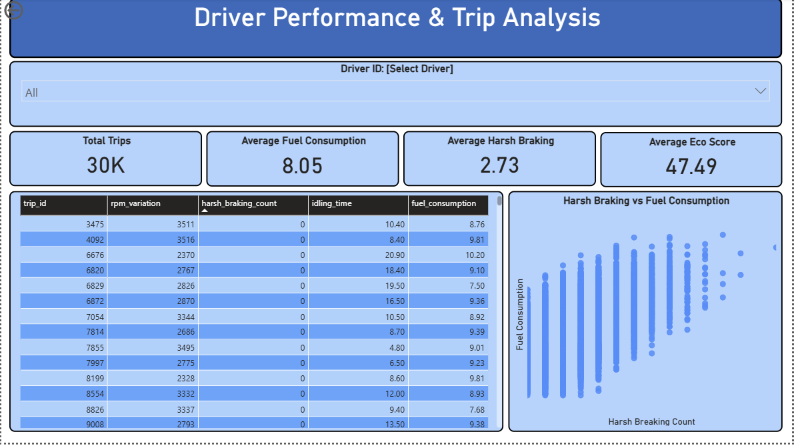

The page's visual inventory and layout, read from the dashboard file:
{"tool":"powerbi","page":{"name":"Driver Performance","canvas":[1280,720],"ordinal":1},"visuals":[{"type":"actionButton","box":[0,0,100,40],"z":0},{"type":"textbox","title":"Driver Performance & Trip Analysis","box":[13,0,1251.7,97.2],"z":1000},{"type":"actionButton","box":[0,0,100,40],"z":2000},{"type":"textbox","box":[13,570,413,150],"z":3000},{"type":"slicer","title":" Driver ID: [Select Driver] ","fields":{"Values":["public stg_eco_driving.driver_id"]},"box":[13,102,1251.7,106.9],"z":4000},{"type":"card","title":"Average Eco Score","fields":{"Values":["Avg(public stg_eco_driving.eco_score)"]},"box":[969.9,217,294.7,89.1],"z":5000},{"type":"card","title":"Average Fuel Consumption","fields":{"Values":["Avg(public stg_eco_driving.fuel_consumption)"]},"box":[332,216,312,90],"z":6000},{"type":"card","title":"Average Harsh Braking","fields":{"Values":["Avg(public stg_eco_driving.harsh_braking_count)"]},"box":[651,216,312,89],"z":7000},{"type":"card","title":"Total Trips","fields":{"Values":["CountNonNull(public stg_eco_driving.trip_id)"]},"box":[13,215,312,89],"z":8000},{"type":"tableEx","fields":{"Values":["public stg_eco_driving.trip_id","public stg_eco_driving.rpm_variation","public stg_eco_driving.harsh_braking_count","public stg_eco_driving.idling_time","public stg_eco_driving.fuel_consumption"]},"box":[13,312.5,800,390.2],"z":9000},{"type":"scatterChart","title":"Harsh Braking vs Fuel Consumption","fields":{"X":["public stg_eco_driving.harsh_braking_count"],"Y":["public stg_eco_driving.fuel_consumption"]},"box":[820.9,312.5,443.7,390.2],"z":9001}]}

Visuals, with their boxes in screenshot pixels (x1, y1, x2, y2), scaled from the page's 1280x720 canvas onto the 795x445 screenshot:
actionButton: detection(0, 0, 62, 25)
"Driver Performance & Trip Analysis" textbox: detection(8, 0, 785, 60)
actionButton: detection(0, 0, 62, 25)
textbox: detection(8, 352, 265, 444)
" Driver ID: [Select Driver] " slicer: detection(8, 63, 785, 129)
"Average Eco Score" card: detection(602, 134, 785, 189)
"Average Fuel Consumption" card: detection(206, 134, 400, 189)
"Average Harsh Braking" card: detection(404, 134, 598, 189)
"Total Trips" card: detection(8, 133, 202, 188)
tableEx - public stg_eco_driving.trip_id x public stg_eco_driving.rpm_variation: detection(8, 193, 505, 434)
"Harsh Braking vs Fuel Consumption" scatterChart: detection(510, 193, 785, 434)
